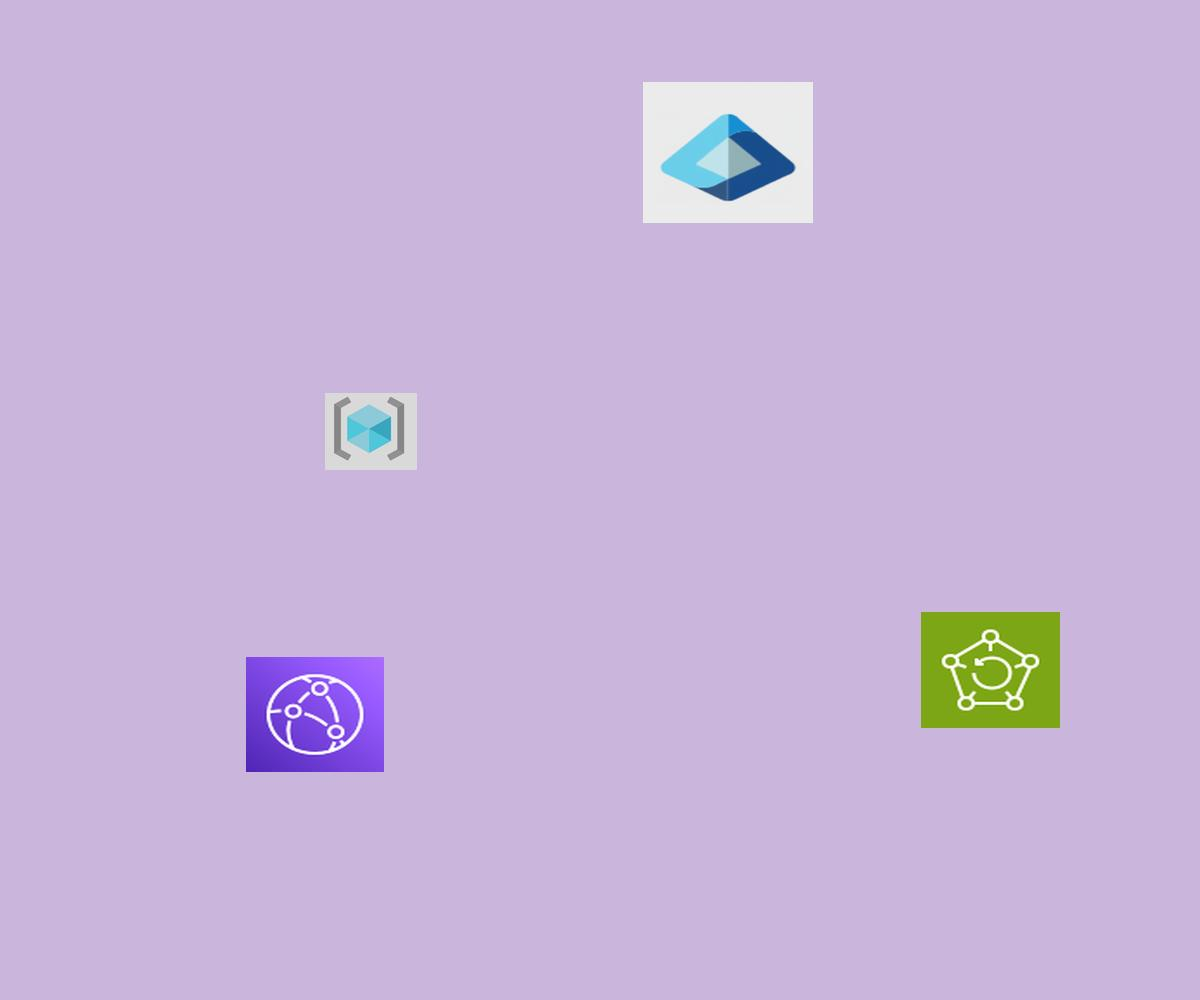AWS-Backup: (921, 612, 1060, 728)
AWS-CloudFront: (246, 657, 384, 772)
Azure_microsoft_entra: (643, 82, 813, 223)
Azure_resource_group: (325, 393, 417, 470)
